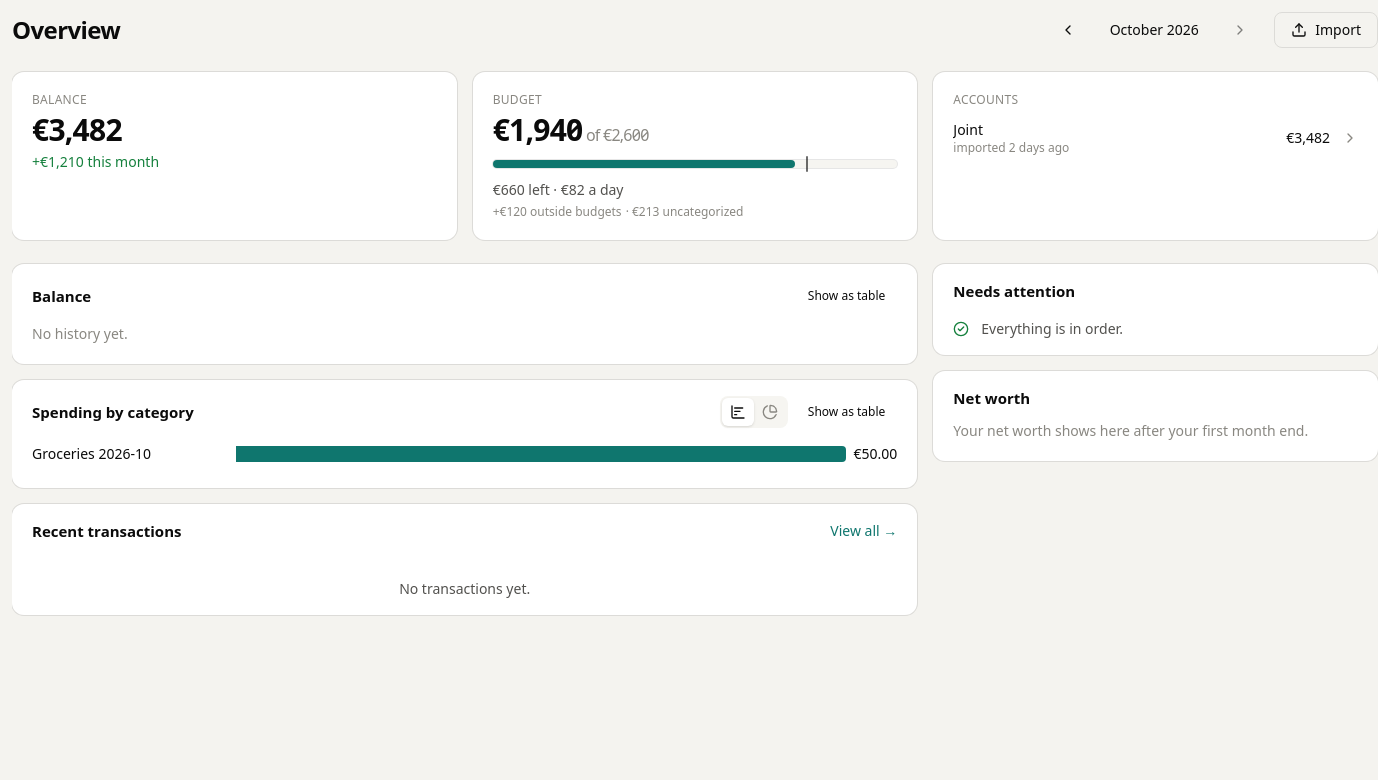
Test: Budget tile › has no pace for a past month
Expected: the text "€660 left · €82 a day" is shown, [493,180,624,199]
Click the button named "Previous month".
click(1068, 30)  # box [1050,12,1086,48]
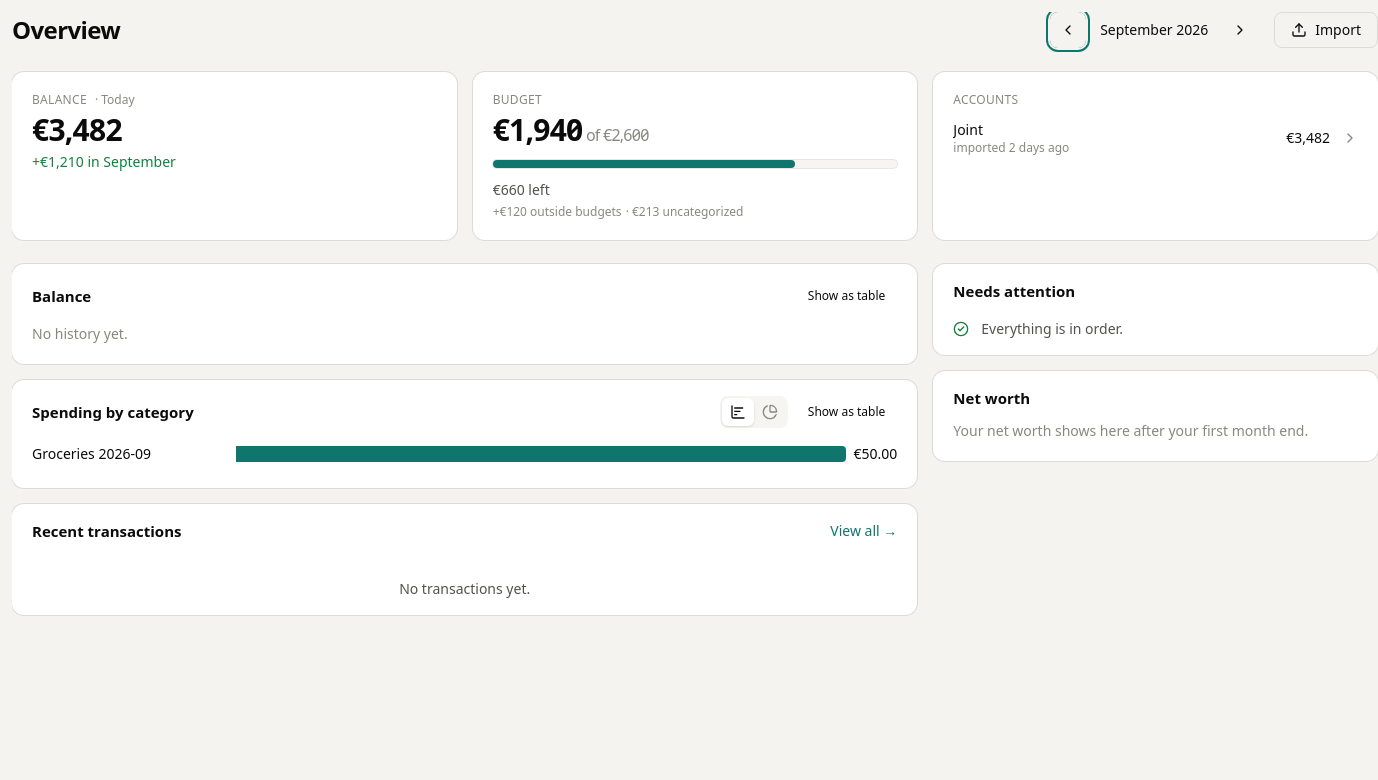
Now the element "Budget" no longer shows "a day", box [473,72,917,240]
Now the element with test id "progress-marker" is gone
